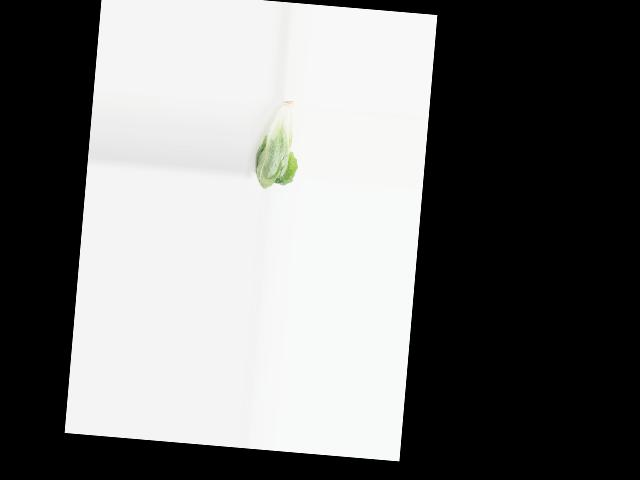lettuce: (250, 93, 304, 191)
